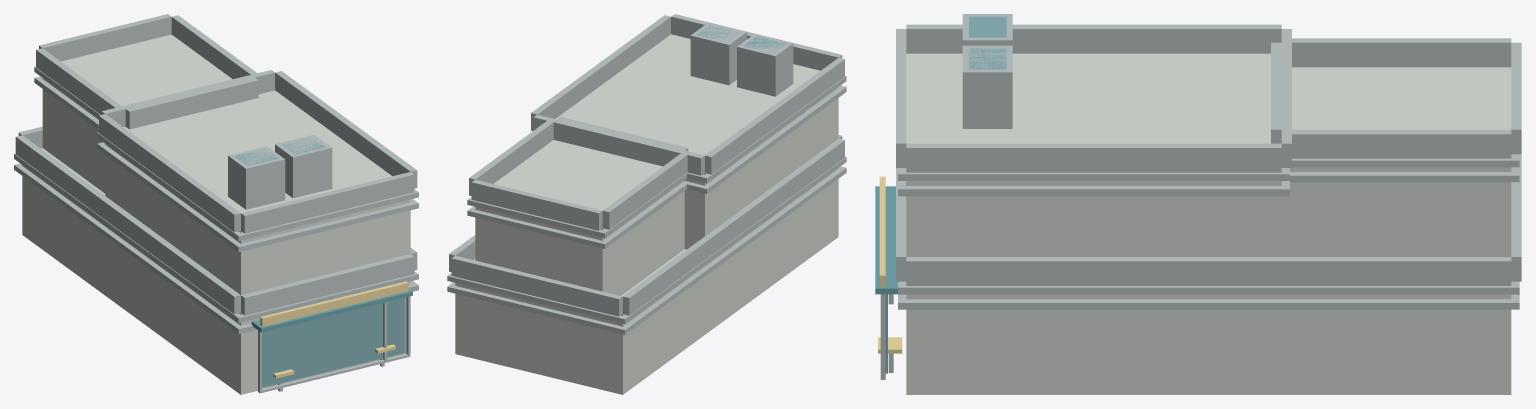
File: commercial_1x2_court.glb
3 views of the same model, side by side, from view 1: azimuth 30°, elevation 25°; view 2: azimuth 150°, elevation 25°; view 3: azimuth 270°, elevation 25° (orthographic). The views are drawn at different scales.
Visible parts, largest first — view 1: commercial_1x2_court_0; view 2: commercial_1x2_court_0; view 3: commercial_1x2_court_0.
Part boxes in pixels (left/top/right/bottom): commercial_1x2_court_0: left=14, top=14, right=418, bottom=394; commercial_1x2_court_0: left=447, top=14, right=846, bottom=394; commercial_1x2_court_0: left=875, top=14, right=1521, bottom=394.
Size of the model in its own units: 7 by 7.5 by 15.5.
